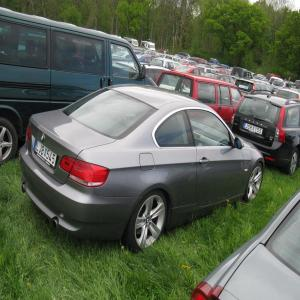Vehicle-registration-plate: (34, 139, 57, 170), (244, 123, 263, 135)
